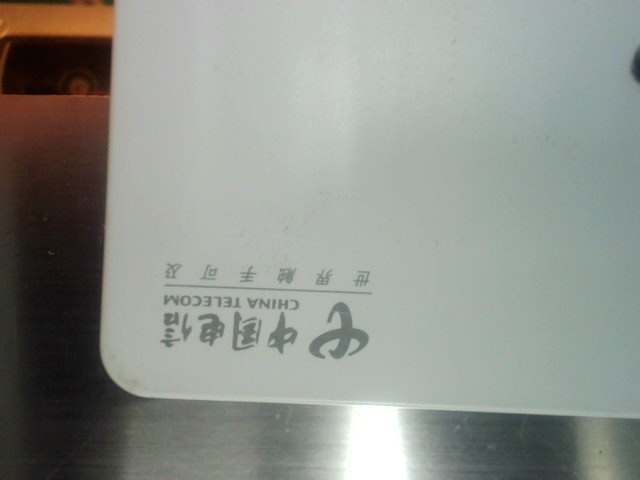AB_ChinaTelecom: (161, 256, 388, 361)
